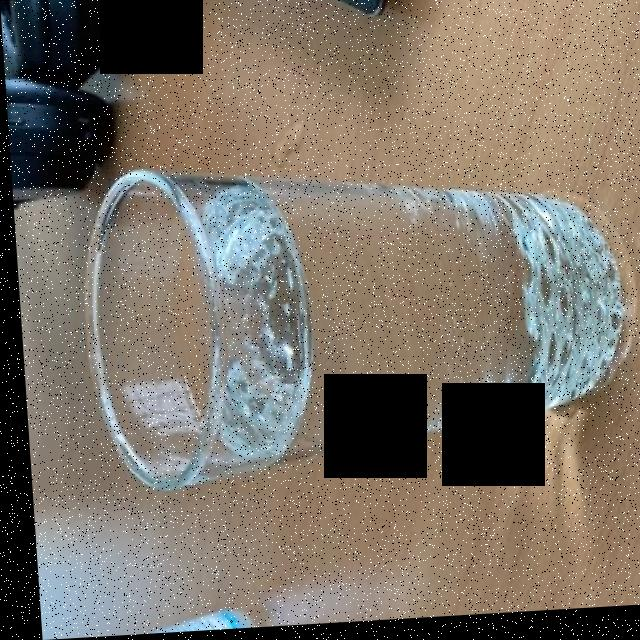water: (186, 188, 616, 461)
